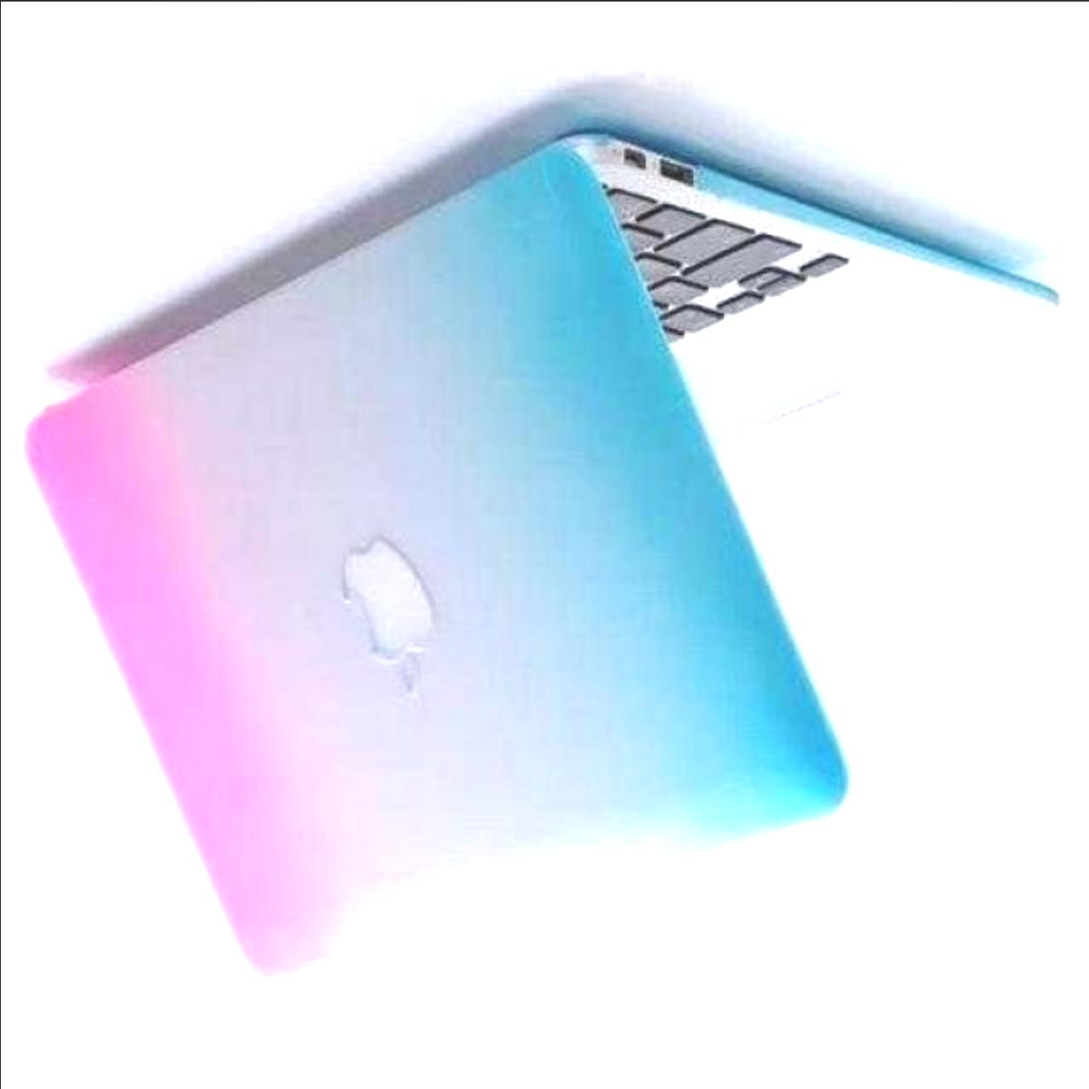laptop: (14, 167, 1031, 922)
